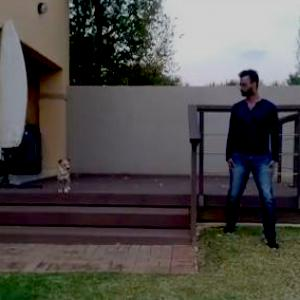follow: (223, 63, 277, 258)
